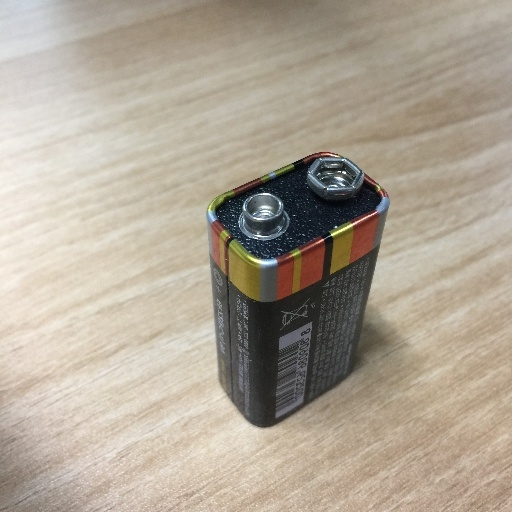Battery_3: (196, 143, 394, 433)
